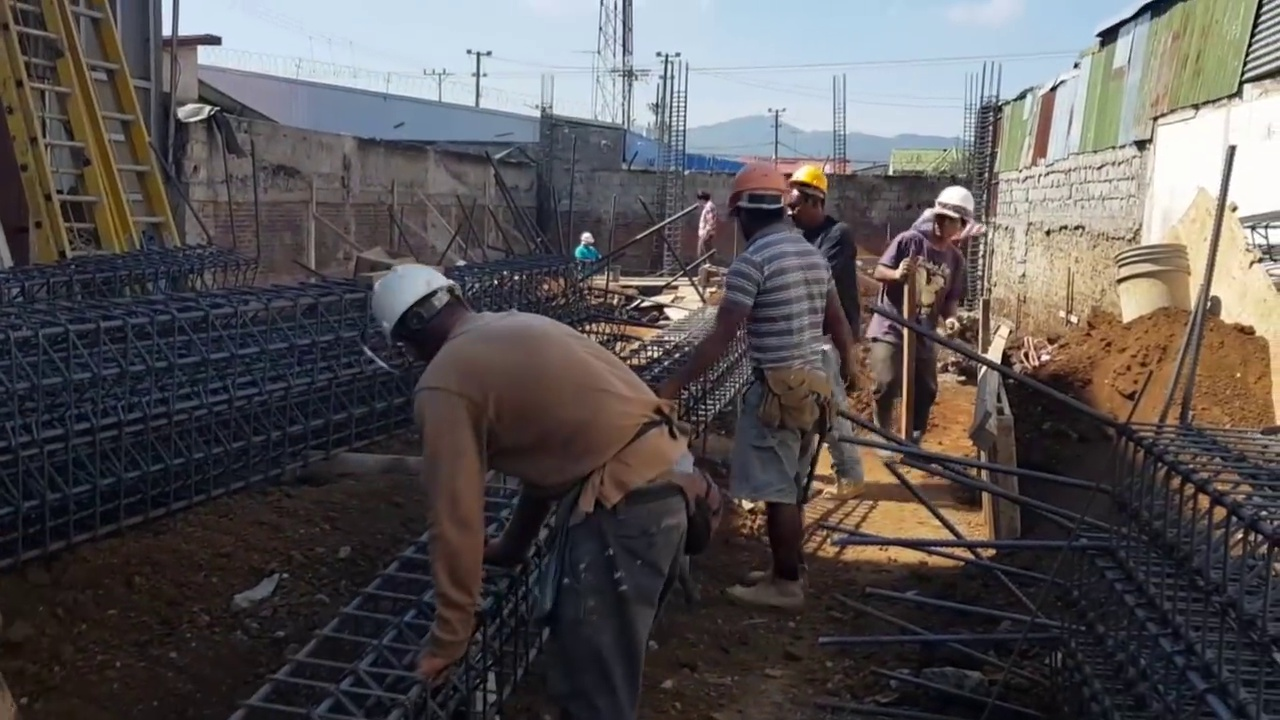helmet: (370, 265, 458, 359), (725, 160, 787, 212), (934, 183, 979, 222), (787, 164, 829, 198), (580, 234, 596, 244)
helmet-off: (696, 190, 710, 209)
helmet-on: (365, 262, 478, 369), (726, 160, 792, 245), (926, 183, 985, 249), (784, 159, 834, 228), (579, 233, 596, 248)
person: (369, 264, 703, 653), (670, 161, 846, 611), (869, 184, 986, 442), (795, 162, 870, 422), (693, 181, 720, 278), (573, 234, 598, 269)
